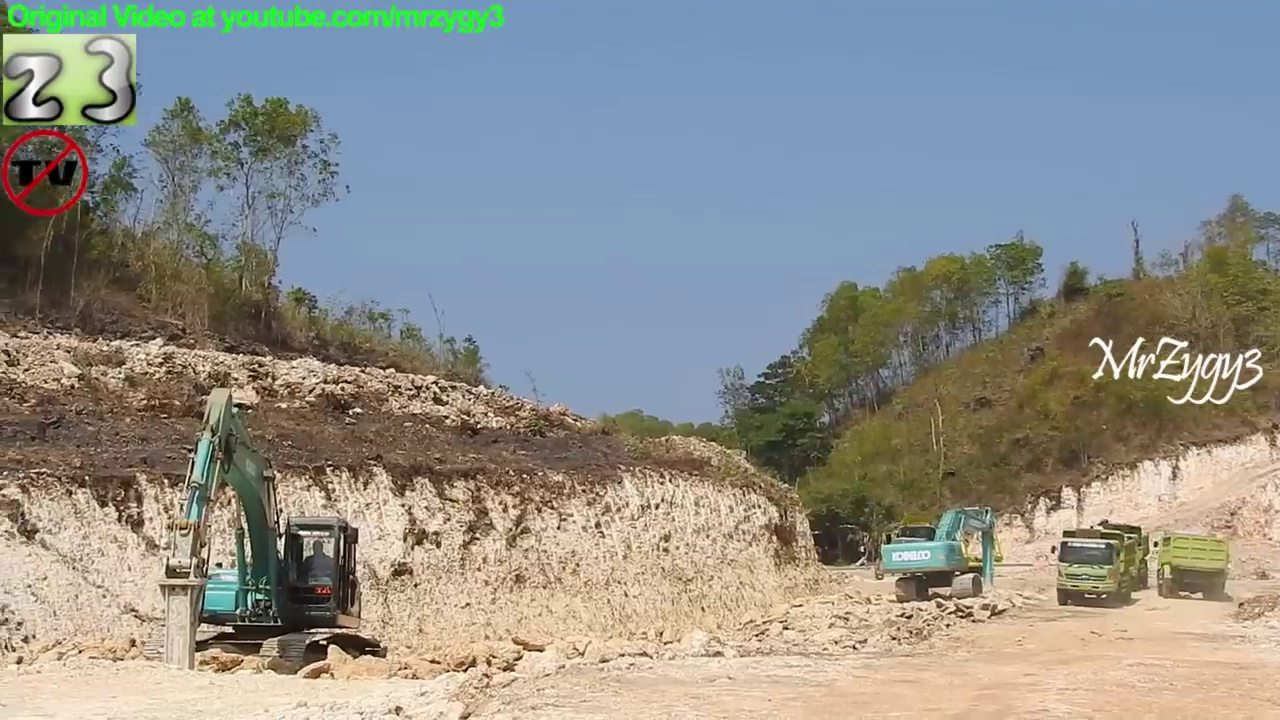excavator: (874, 505, 1000, 603)
excavator breaker: (134, 385, 391, 683)
truck: (1048, 524, 1141, 609), (1064, 516, 1151, 596), (1151, 528, 1234, 606)
